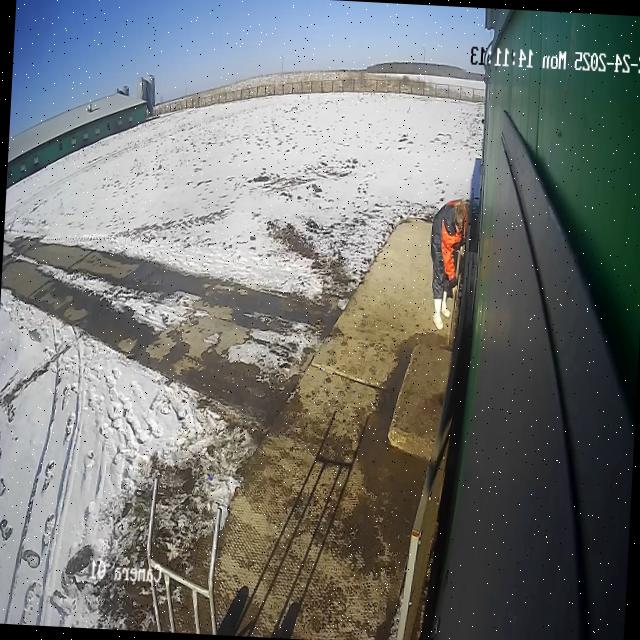Red uniform: (424, 196, 471, 334)
